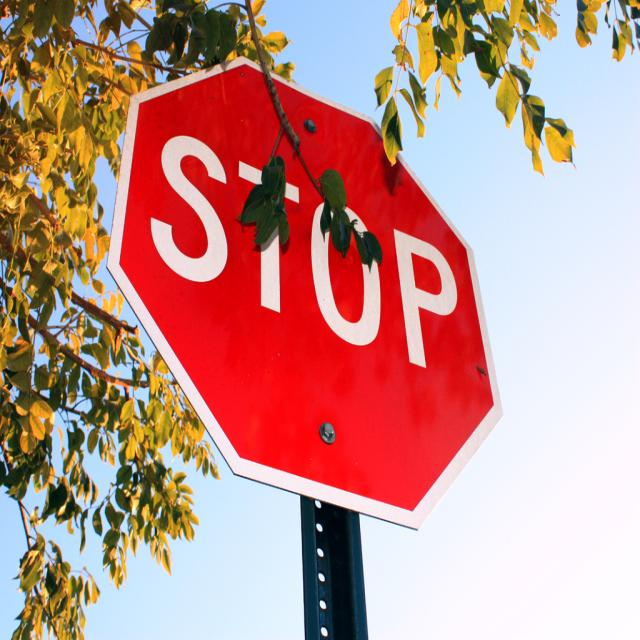Stop-sign: (109, 51, 499, 528)
